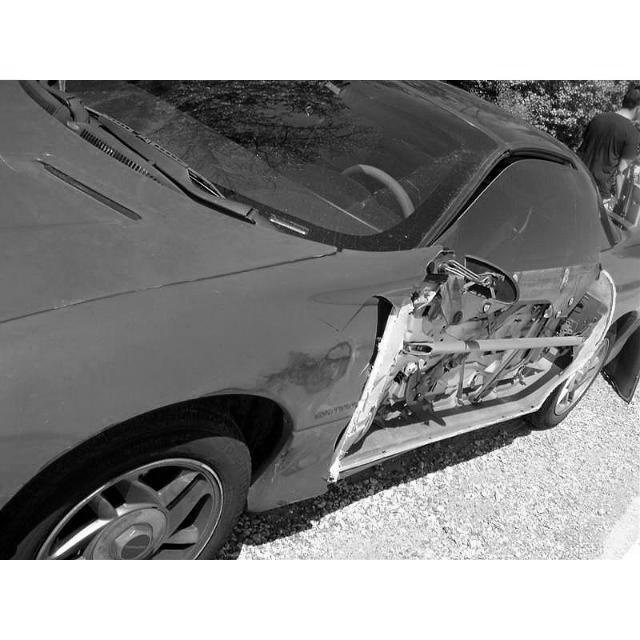fender-dent: (293, 249, 421, 493)
